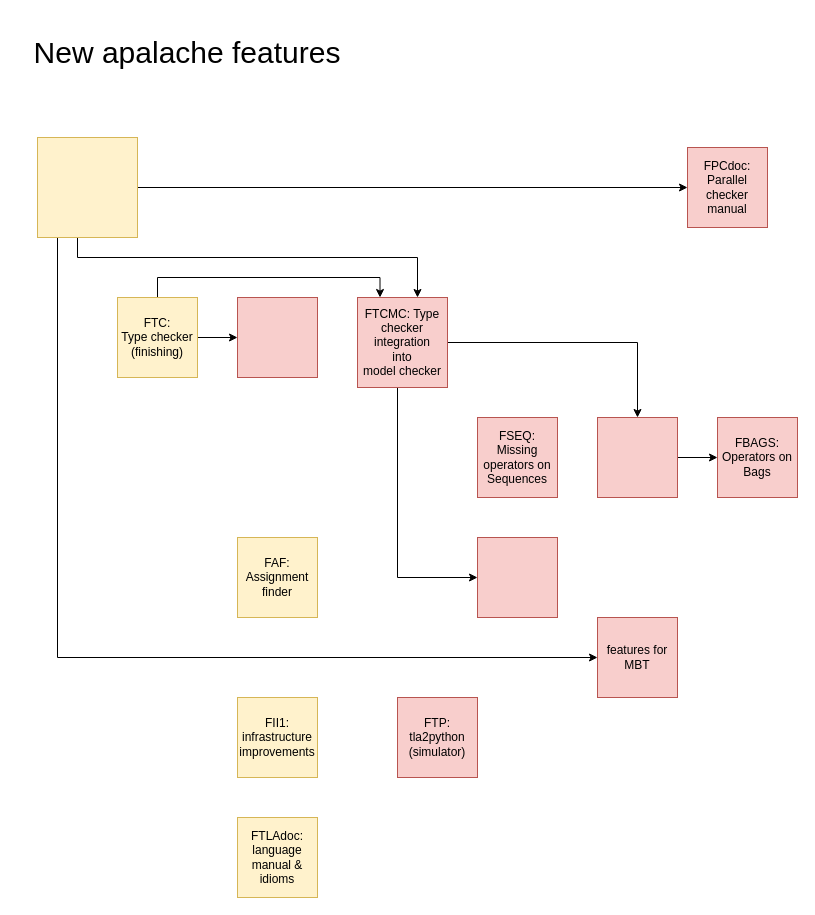
Image size: 815x915. Some labels were removed from this diagram. The centre of each missing label's shape, as x and y in pixels:
"FARR: New SMT encoding (arrays)" goes at point (637, 457).
"FPC: Integration of the parallel checker & new checker architecture" goes at point (87, 187).
"FTCdoc: Type checker manual" goes at point (277, 337).
"FTI: Type infererer: testing and integration" goes at point (517, 577).
